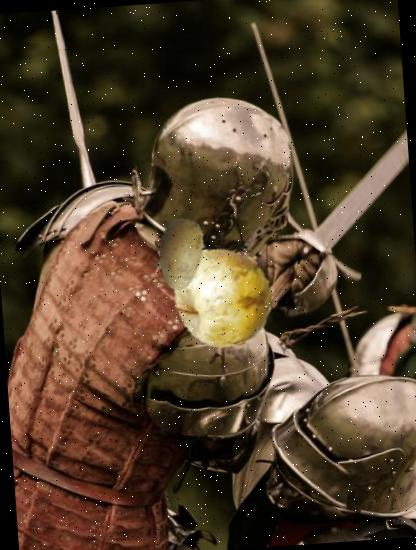Apple: (167, 242, 276, 352)
Potato: (140, 214, 220, 294)
